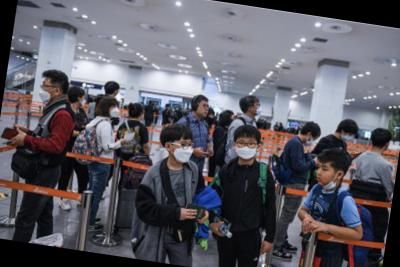mask_weared_incorrect: (316, 162, 338, 188)
with_mask: (171, 137, 196, 165), (235, 137, 260, 161), (39, 80, 55, 105), (304, 136, 320, 150), (109, 104, 121, 120), (341, 132, 356, 143), (253, 103, 264, 117), (80, 96, 88, 108)
without_mask: (197, 101, 211, 118)
